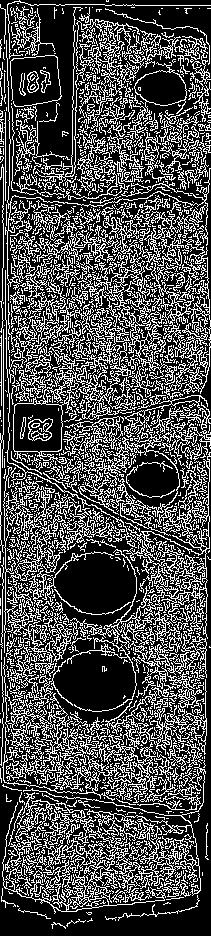hplug: (112, 441, 197, 516), (128, 46, 204, 120)
scal: (45, 634, 156, 734), (46, 531, 150, 633)
vplug: (27, 2, 85, 176)
